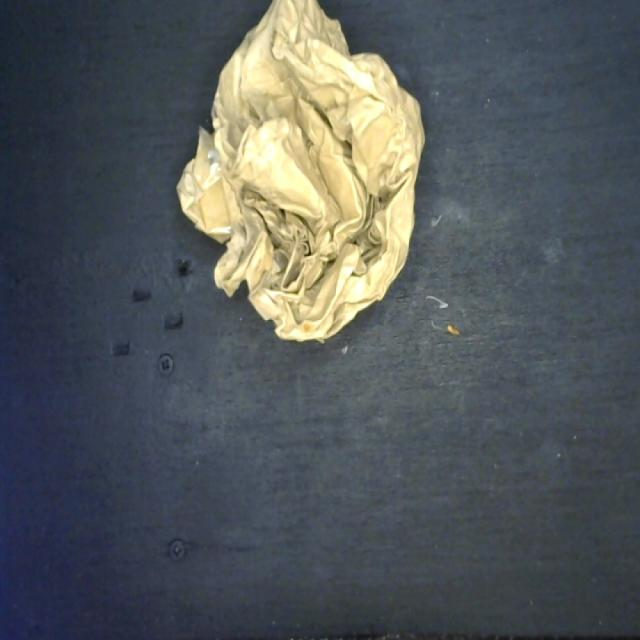biodegradable: (175, 0, 427, 348)
